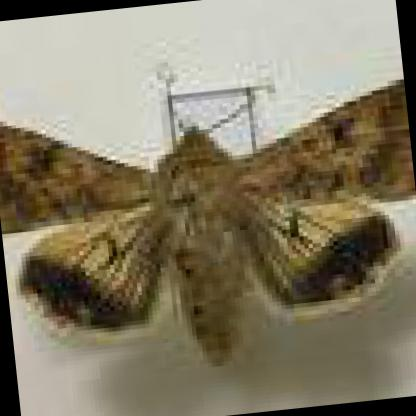helicoverpa: (0, 80, 412, 368)
